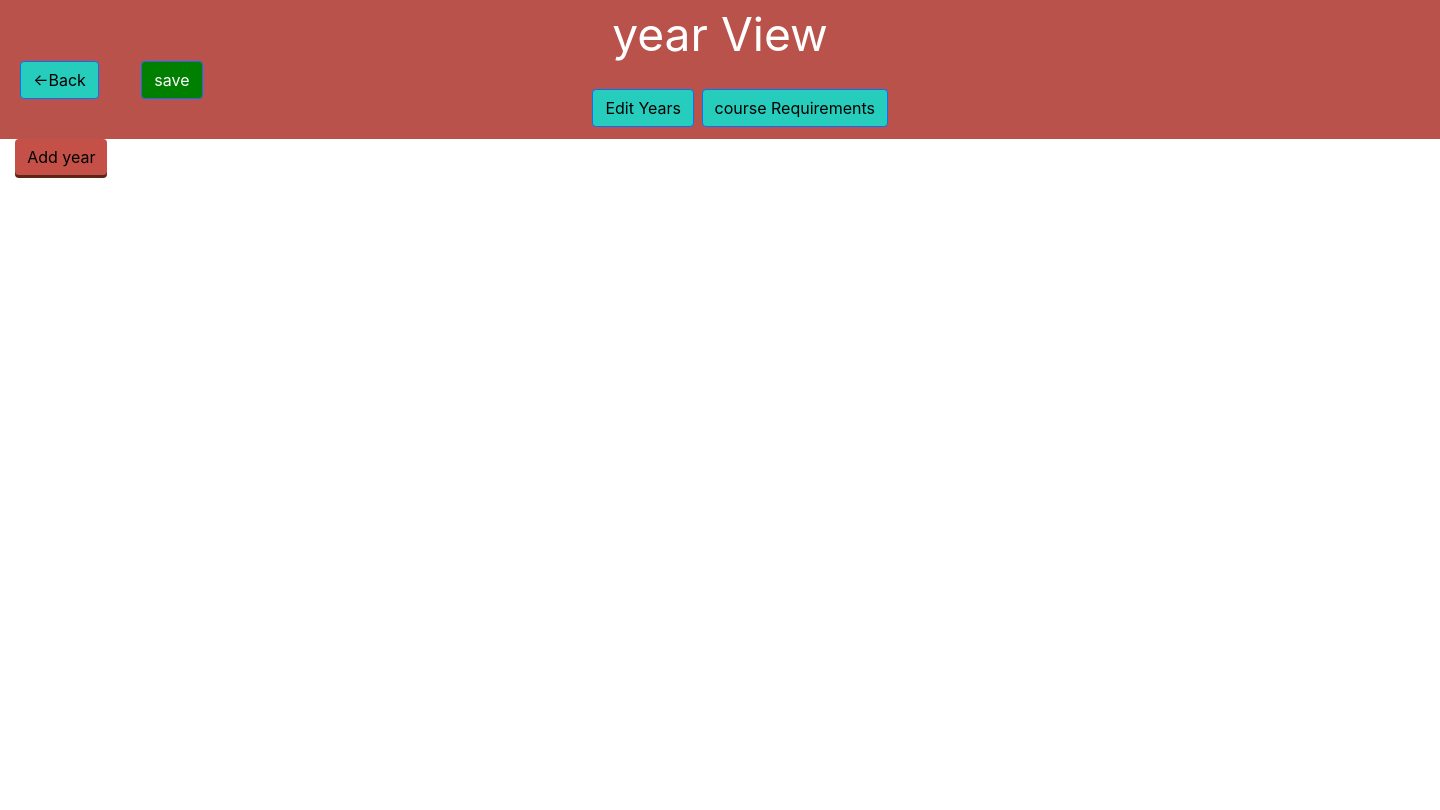
Year Component tests › Clicking the course requirements button reveals a popup with all the requirements
The width and height of the screenshot is (1440, 810).
Click the button "course Requirements".
click(795, 108)  # box [702,89,888,127]
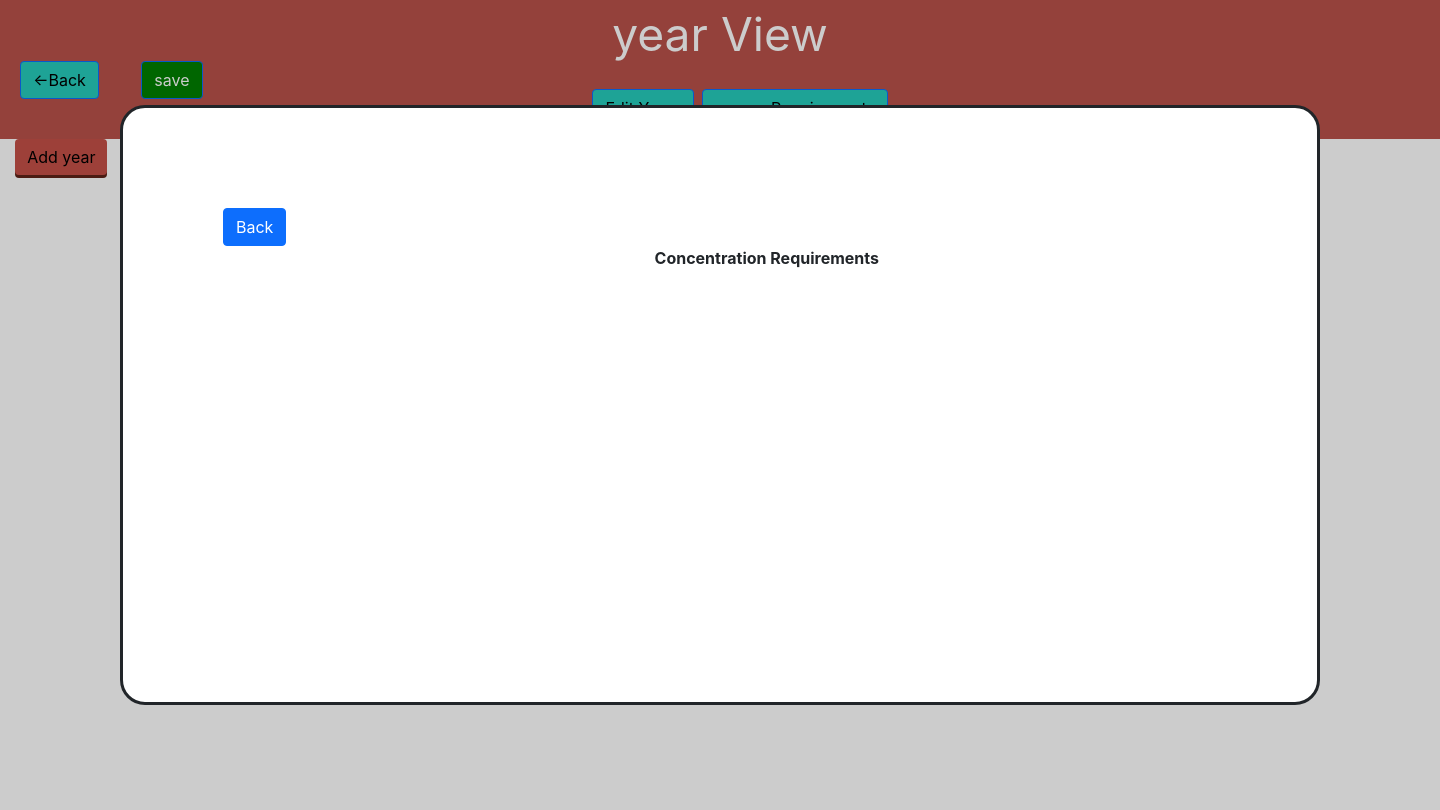
expect the element with test id "requirement-popup" is shown: met
